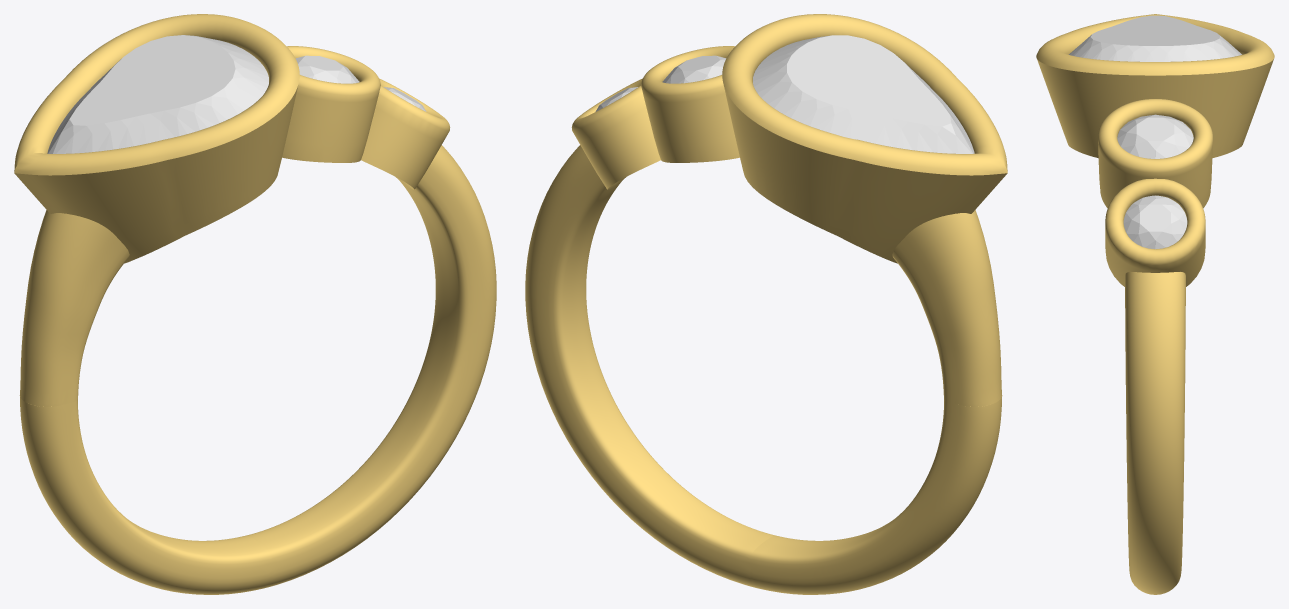
The model's file is NicolasYGengBez_blender.glb.
3 renders of one model, left to right at view 1: azimuth 30°, elevation 25°; view 2: azimuth 150°, elevation 25°; view 3: azimuth 270°, elevation 25°, orthographic. The views are drawn at different scales.
Visible parts, largest first — view 1: Nicolas YG for 3d model, Nicolas center dia for 3d model, Nicolas side dia for 3d model.001; view 2: Nicolas YG for 3d model, Nicolas center dia for 3d model, Nicolas side dia for 3d model.001; view 3: Nicolas YG for 3d model, Nicolas center dia for 3d model, Nicolas side dia for 3d model, Nicolas side dia for 3d model.001.
Part boxes in pixels (x1,y1,x2,y2): Nicolas YG for 3d model: [14, 14, 496, 594]; Nicolas center dia for 3d model: [47, 35, 268, 153]; Nicolas side dia for 3d model.001: [295, 55, 359, 83]; Nicolas YG for 3d model: [525, 14, 1007, 594]; Nicolas center dia for 3d model: [753, 35, 974, 153]; Nicolas side dia for 3d model.001: [662, 55, 726, 83]; Nicolas YG for 3d model: [1036, 14, 1274, 594]; Nicolas center dia for 3d model: [1069, 15, 1241, 61]; Nicolas side dia for 3d model: [1123, 195, 1187, 249]; Nicolas side dia for 3d model.001: [1117, 114, 1193, 158].
Bounding box in the file's own units: 20.11 × 22.14 × 9.35.
